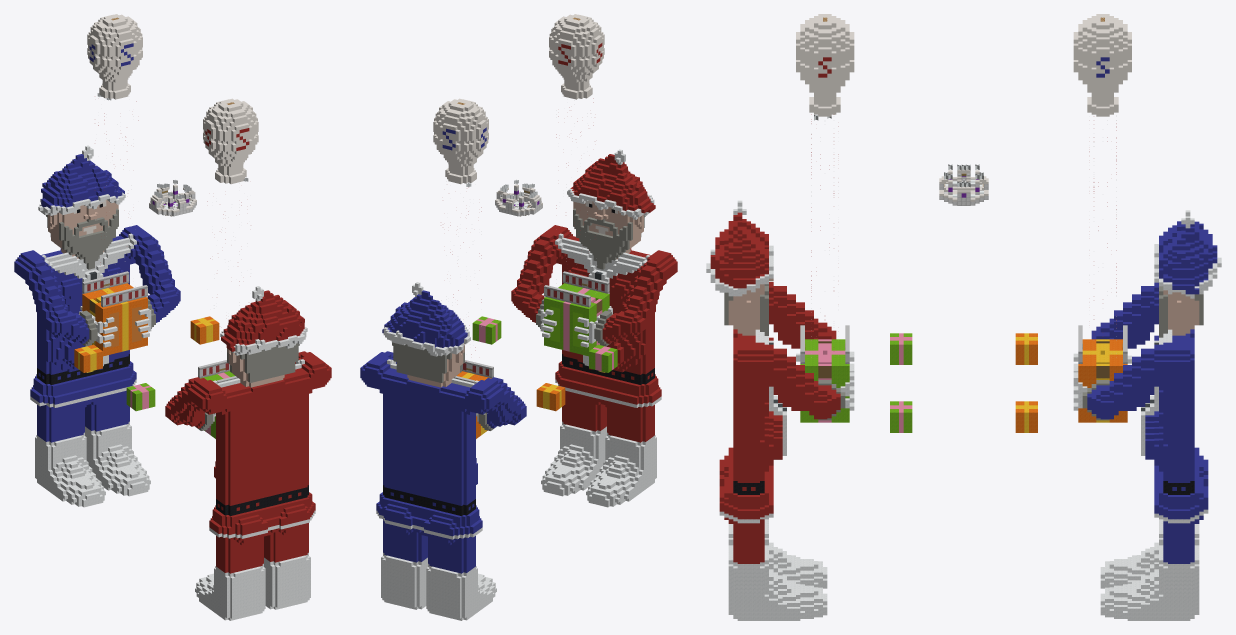
The model's file is minecraft.obj.
The picture shows the model from 3 angles, left to right: view 1: azimuth 30°, elevation 25°; view 2: azimuth 150°, elevation 25°; view 3: azimuth 270°, elevation 25°; orthographic projection. The views are drawn at different scales.
Bounding box in the file's own units: 42 × 142 × 115.
